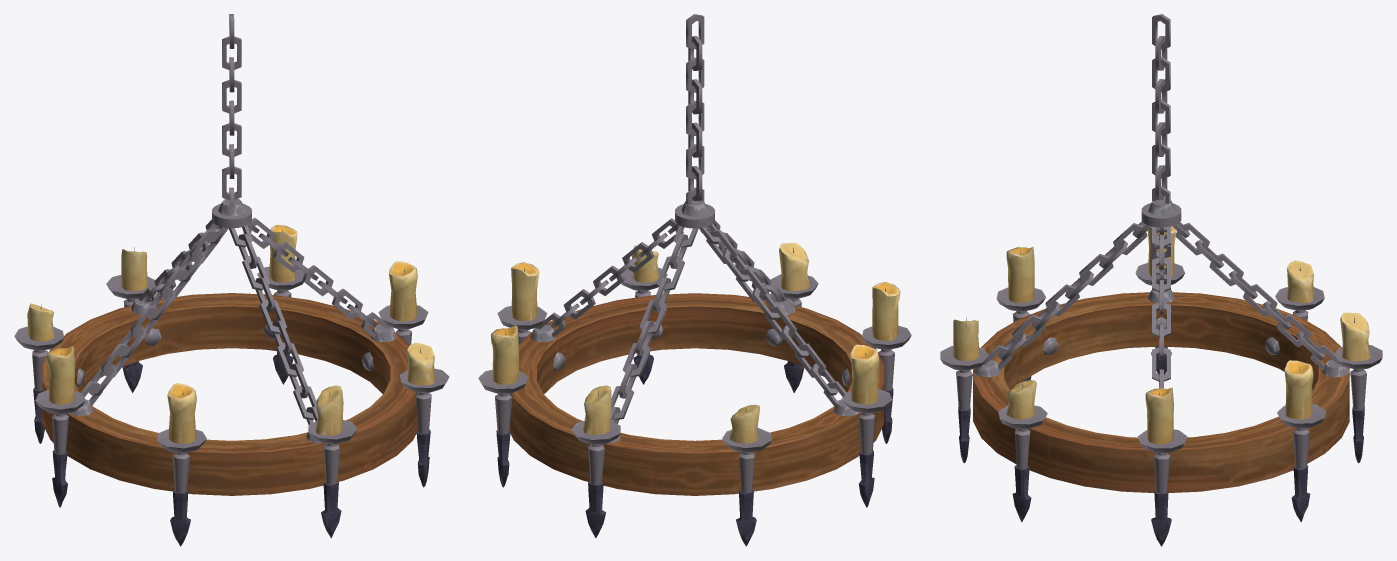
File: Chandelier.glb
3 renders of one model, left to right at view 1: azimuth 30°, elevation 25°; view 2: azimuth 150°, elevation 25°; view 3: azimuth 270°, elevation 25°, orthographic.
Parts seen in each view (by area): view 1: Chandelier; view 2: Chandelier; view 3: Chandelier.
Boxes of the visible parts, <box> form: Chandelier: <box>14,14,449,546</box>; Chandelier: <box>478,14,911,546</box>; Chandelier: <box>940,14,1382,546</box>.
Size of the model in its own units: 1.3 by 1.46 by 1.3.
3 materials, 3 textured.
